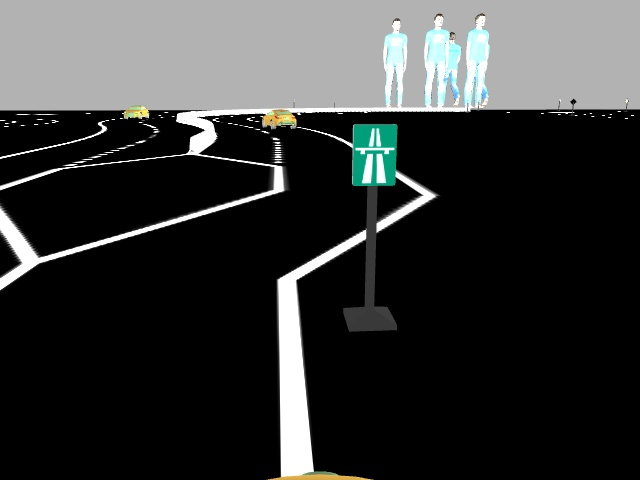HighwayEntrance: (347, 121, 400, 187)
